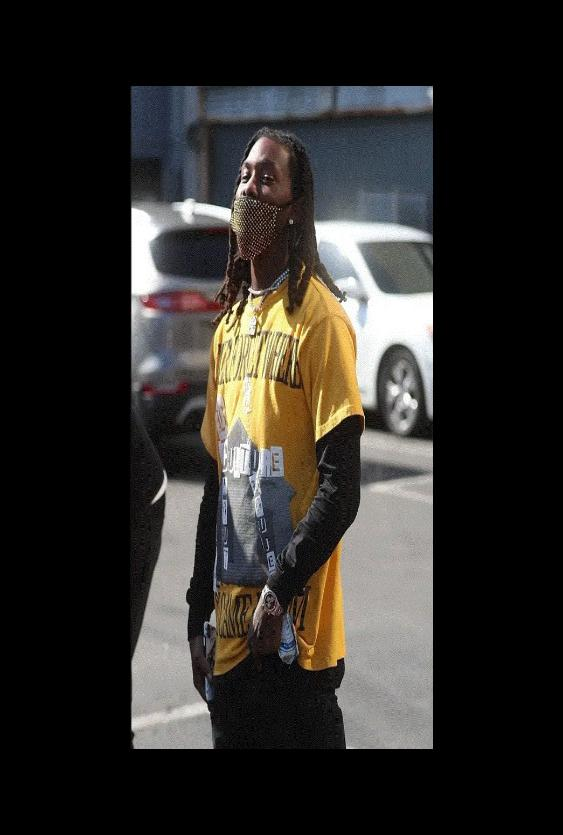mask_weared_incorrect: (229, 156, 287, 228)
